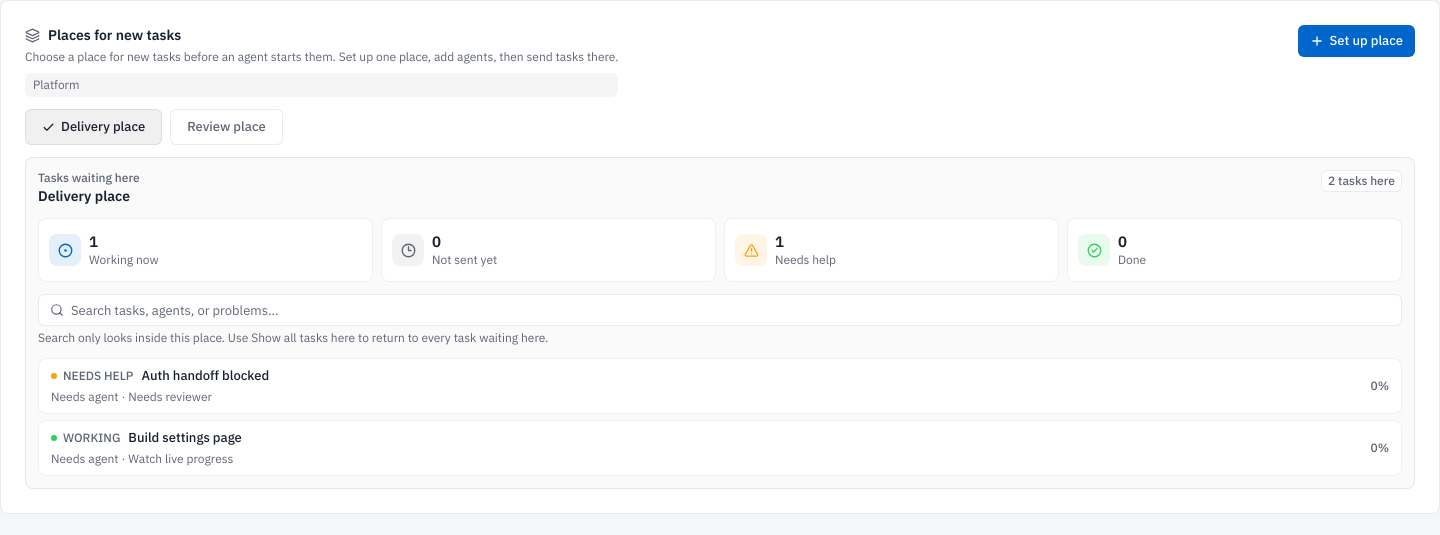
AgentGroupsPanel › filters the waiting place by search
Step 1. Type "auth" into the search field named "Search tasks waiting here" → (720, 310), box [38,294,1402,326]
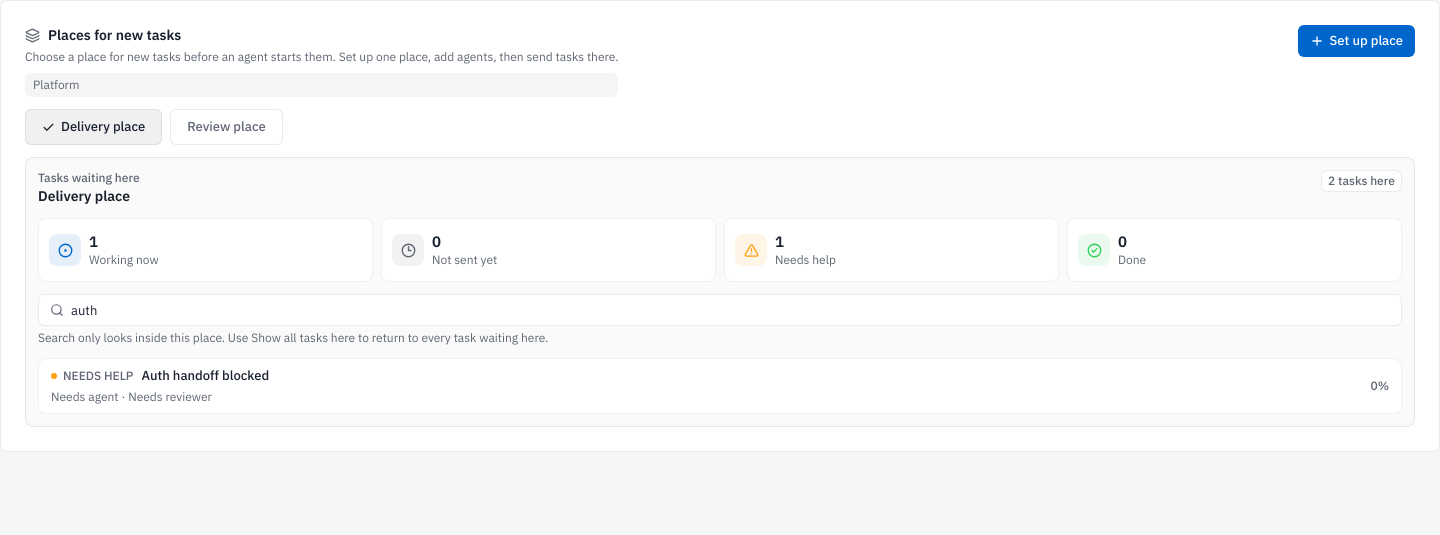
Expected: the text "Auth handoff blocked" is shown, [141,367,269,385]
Expected: the text "Build settings page" is gone
Step 2. Replace the text in the search field named "Search tasks waiting here" with "missing" → (720, 310), box [38,294,1402,326]
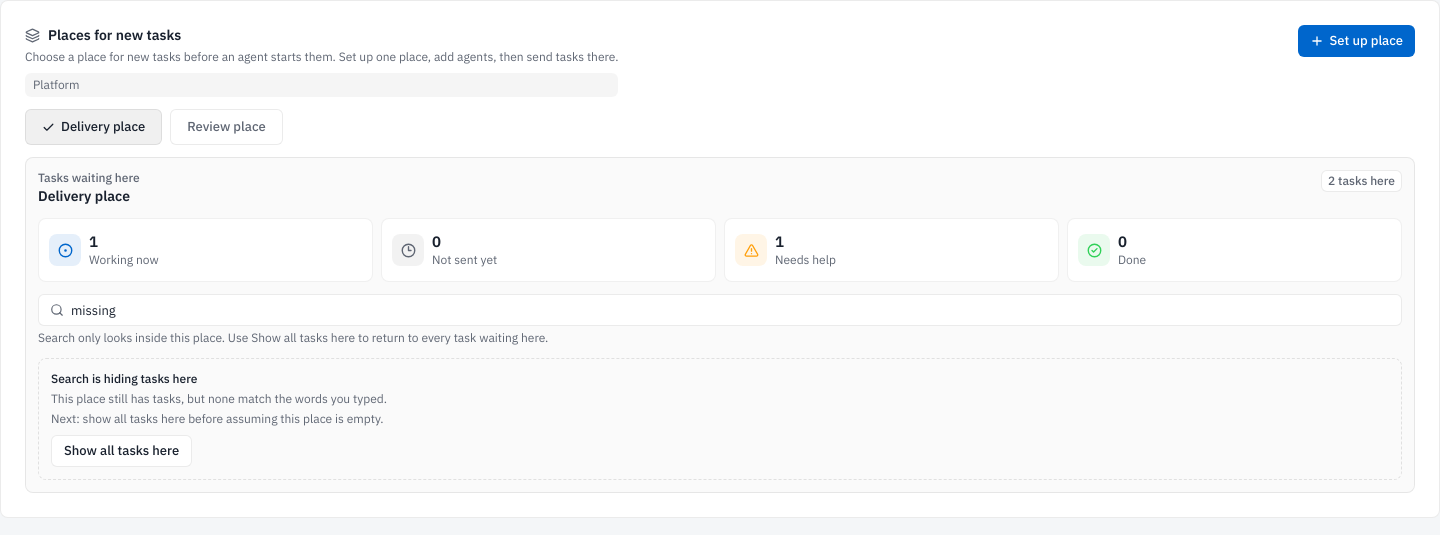
Expected: the text "Search is hiding tasks here" is shown, [51,371,197,386]
Expected: the text "This place still has tasks" is shown, [51,391,387,406]
Expected: the text "before assuming this place is empty" is shown, [51,411,384,426]
Step 3. Click the button "Show all tasks here" → (122, 451), box [51,435,192,467]
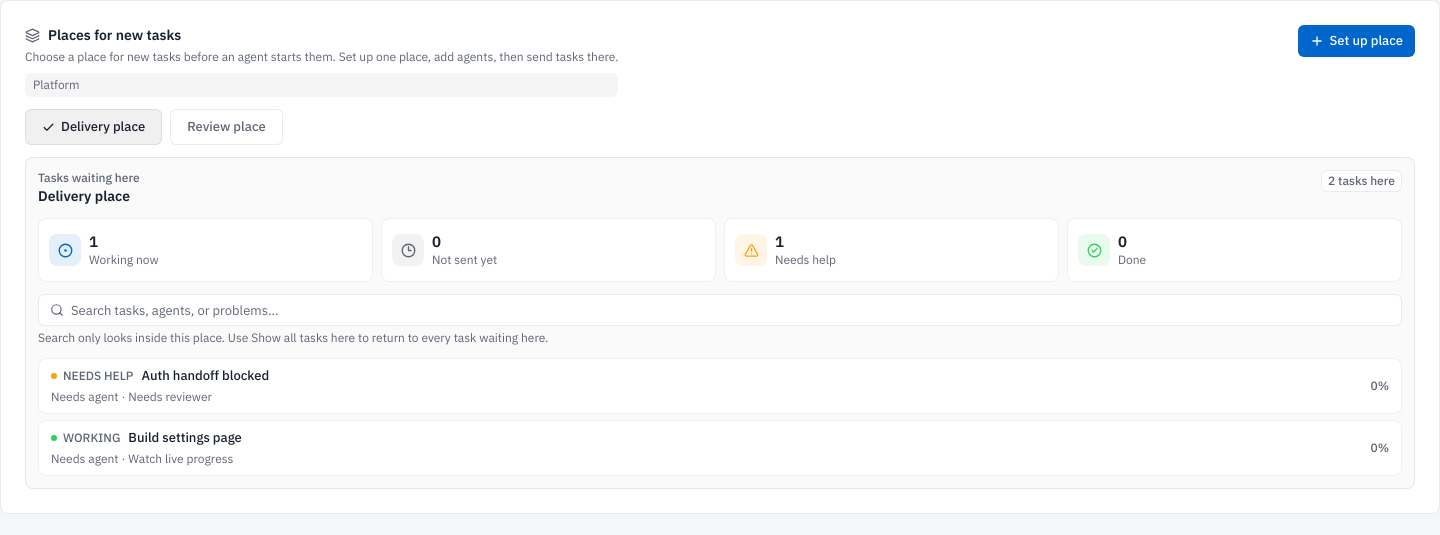
Expected: the search field with test id "task-routing-search" is empty, [38,294,1402,326]
Expected: the text "Build settings page" is shown, [128,429,242,447]
